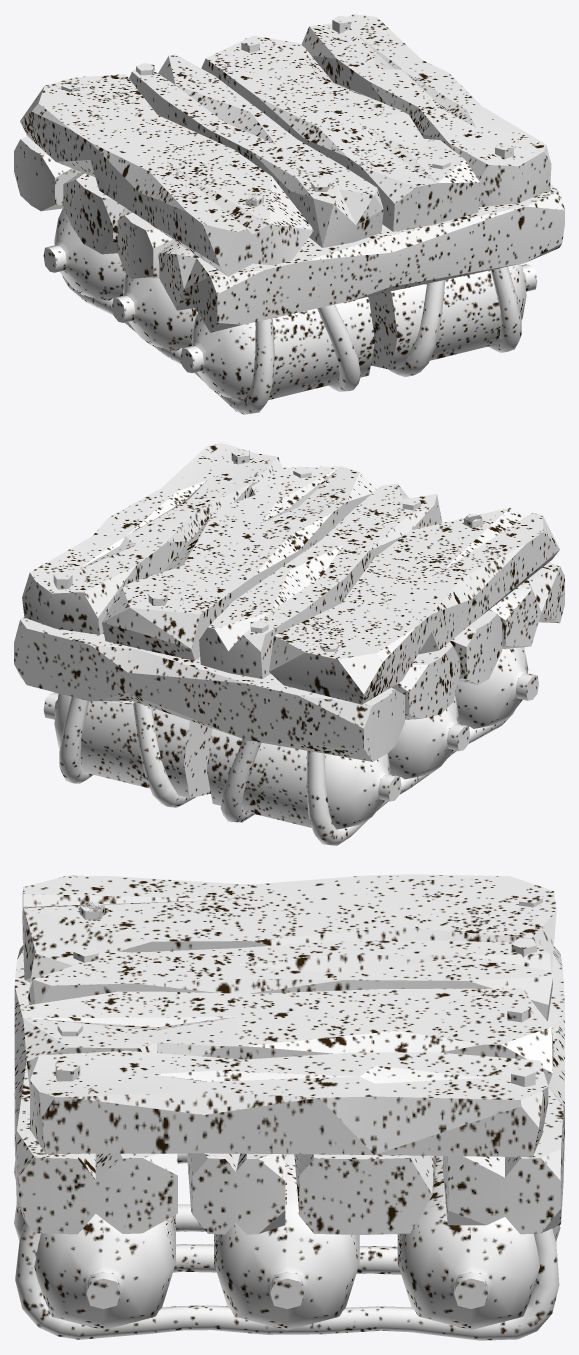
The model's file is Raft.fbx.
3 views of the same model, one above another, from view 1: azimuth 30°, elevation 25°; view 2: azimuth 150°, elevation 25°; view 3: azimuth 270°, elevation 25° (orthographic). The views are drawn at different scales.
Visible parts, largest first — view 1: TopWood, BottomWood, Bottles, Rope, bolt; view 2: TopWood, BottomWood, Bottles, Rope, bolt; view 3: TopWood, BottomWood, Bottles, Rope, bolt.
Boxes of the visible parts, x1=… form: TopWood: x1=20, y1=14, x2=551, y2=276; BottomWood: x1=14, y1=136, x2=564, y2=332; Bottles: x1=43, y1=208, x2=537, y2=400; Rope: x1=62, y1=266, x2=521, y2=414; bolt: x1=61, y1=16, x2=513, y2=206; TopWood: x1=22, y1=443, x2=559, y2=704; BottomWood: x1=14, y1=562, x2=564, y2=761; Bottles: x1=43, y1=647, x2=538, y2=829; Rope: x1=59, y1=697, x2=515, y2=845; bolt: x1=53, y1=449, x2=482, y2=652; TopWood: x1=22, y1=874, x2=556, y2=1157; BottomWood: x1=14, y1=945, x2=564, y2=1234; Bottles: x1=34, y1=1154, x2=539, y2=1329; Rope: x1=14, y1=1153, x2=560, y2=1340; bolt: x1=55, y1=893, x2=542, y2=1086.
Bounding box in the file's own units: 100 × 56.37 × 100.
